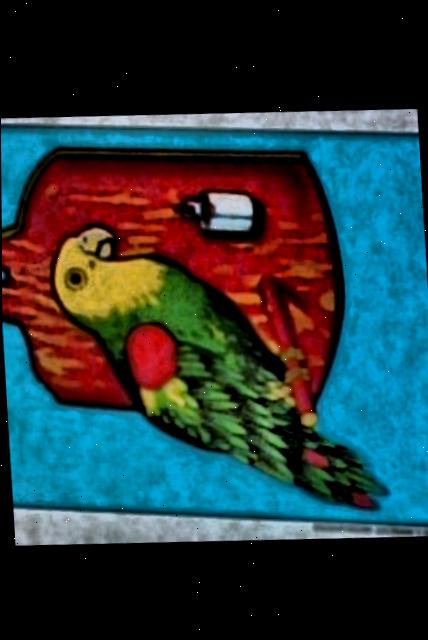El Cotorro: (1, 129, 428, 520)
